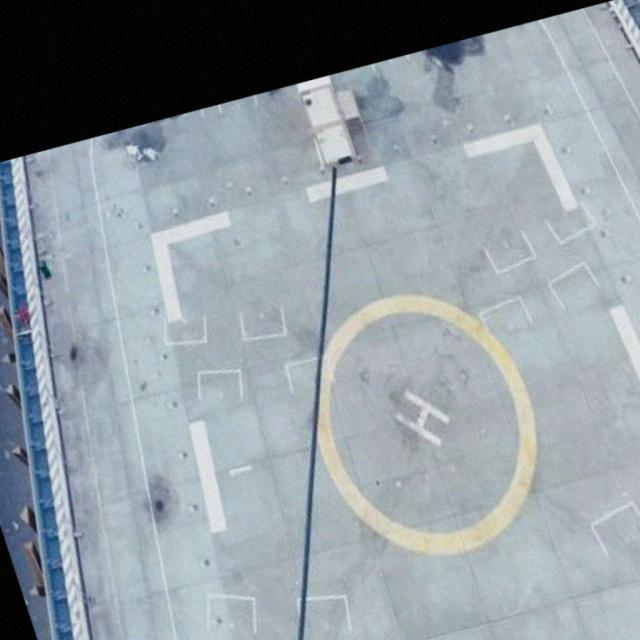helipad: (315, 287, 541, 562)
